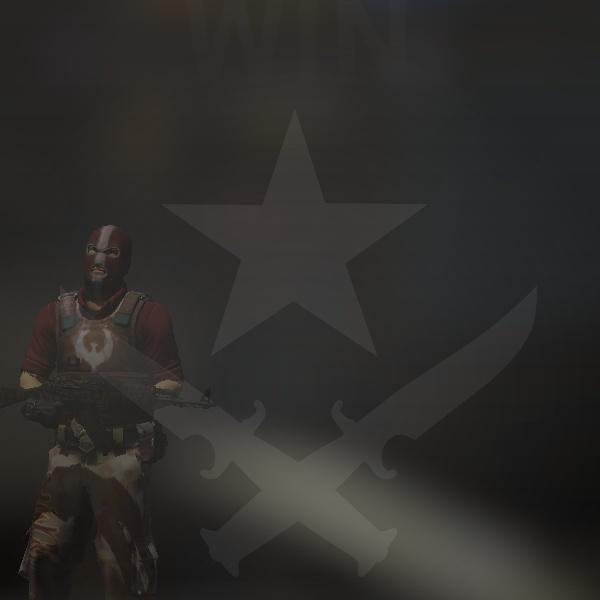t_body: (12, 216, 202, 598)
t_head: (59, 214, 150, 313)
